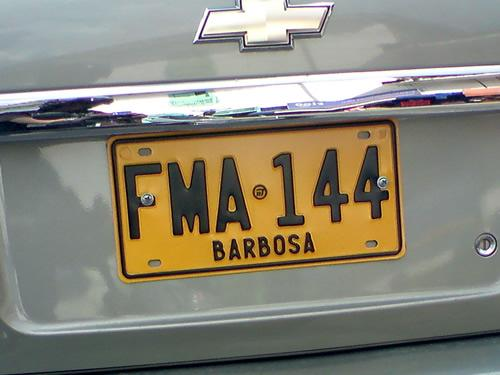placas: (104, 116, 409, 286)
